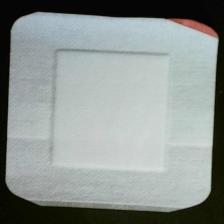Dressing: (5, 14, 222, 215)
Red_T: (160, 14, 222, 47)
